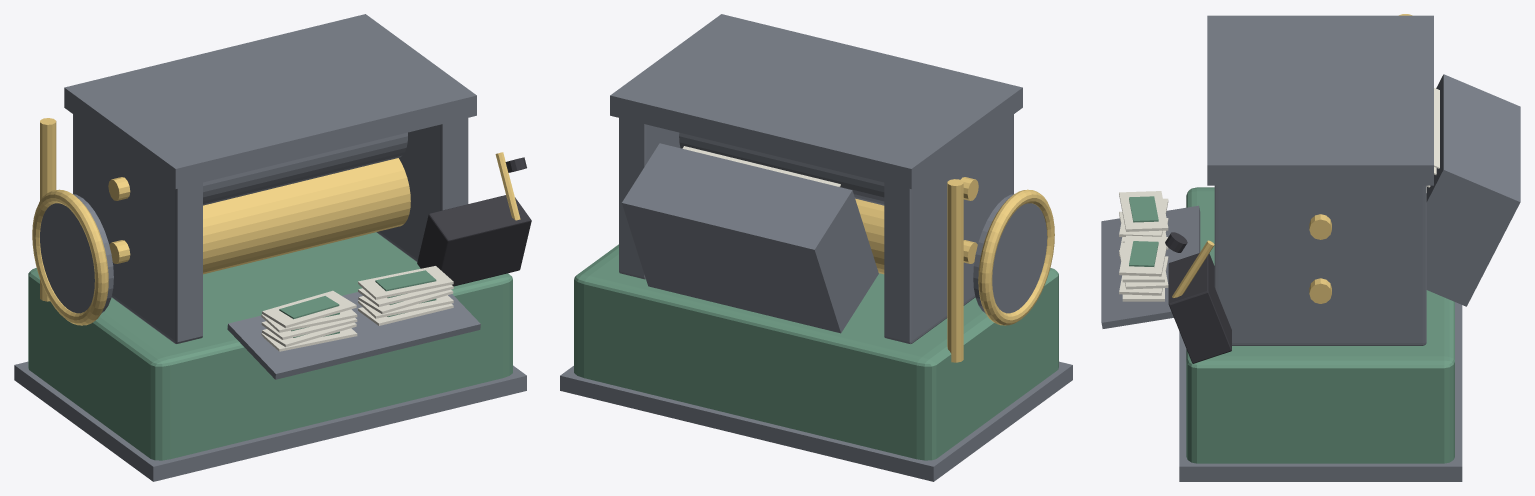
File: press.glb
The picture shows the model from 3 angles, left to right: view 1: azimuth 30°, elevation 25°; view 2: azimuth 150°, elevation 25°; view 3: azimuth 270°, elevation 25°; orthographic projection.
Visible parts, largest first — view 1: Base, Top, Upright, Roller, Skirt, Tray, Panel, Upright.001, Flywheel, Roller.001, FlyRim, Pipe (+13 smaller); view 2: Base, Top, Hopper, Upright, Skirt, Flywheel, Upright.001, FlyRim, Pipe, Roller.001, Roller, Sheet.005; view 3: Top, Base, Upright.001, Hopper, Skirt, Tray, Panel, Note.008, Note.009, Stripe.008, Stripe.009, Lever (+3 smaller).
Part boxes in pixels (left/top/right/bottom): Base: left=28, top=232, right=512, bottom=460; Top: left=64, top=14, right=476, bottom=188; Upright: left=73, top=114, right=202, bottom=343; Roller: left=203, top=158, right=410, bottom=274; Skirt: left=14, top=361, right=526, bottom=481; Tray: left=227, top=292, right=480, bottom=379; Panel: left=417, top=195, right=531, bottom=286; Upright.001: left=376, top=118, right=468, bottom=261; Flywheel: left=40, top=194, right=113, bottom=313; Roller.001: left=203, top=132, right=407, bottom=205; FlyRim: left=32, top=189, right=108, bottom=325; Pipe: left=40, top=118, right=56, bottom=301; Base: left=574, top=244, right=1058, bottom=460; Top: left=610, top=14, right=1022, bottom=188; Hopper: left=622, top=143, right=878, bottom=333; Upright: left=884, top=114, right=1013, bottom=343; Skirt: left=560, top=361, right=1072, bottom=481; Flywheel: left=973, top=194, right=1047, bottom=313; Upright.001: left=619, top=118, right=680, bottom=279; FlyRim: left=978, top=189, right=1054, bottom=325; Pipe: left=947, top=179, right=963, bottom=362; Roller.001: left=679, top=132, right=884, bottom=205; Roller: left=855, top=198, right=884, bottom=274; Sheet.005: left=682, top=146, right=840, bottom=186; Top: left=1207, top=15, right=1433, bottom=185; Base: left=1186, top=187, right=1454, bottom=463; Upright.001: left=1214, top=185, right=1426, bottom=345; Hopper: left=1426, top=74, right=1520, bottom=306; Skirt: left=1179, top=302, right=1462, bottom=481; Tray: left=1101, top=205, right=1200, bottom=328; Panel: left=1168, top=253, right=1231, bottom=363; Note.008: left=1119, top=191, right=1168, bottom=231; Note.009: left=1119, top=235, right=1167, bottom=276; Stripe.008: left=1129, top=196, right=1158, bottom=222; Stripe.009: left=1129, top=241, right=1158, bottom=266; Lever: left=1172, top=240, right=1214, bottom=297.
Bounding box in the file's own units: 3.26 × 2.33 × 2.96.
